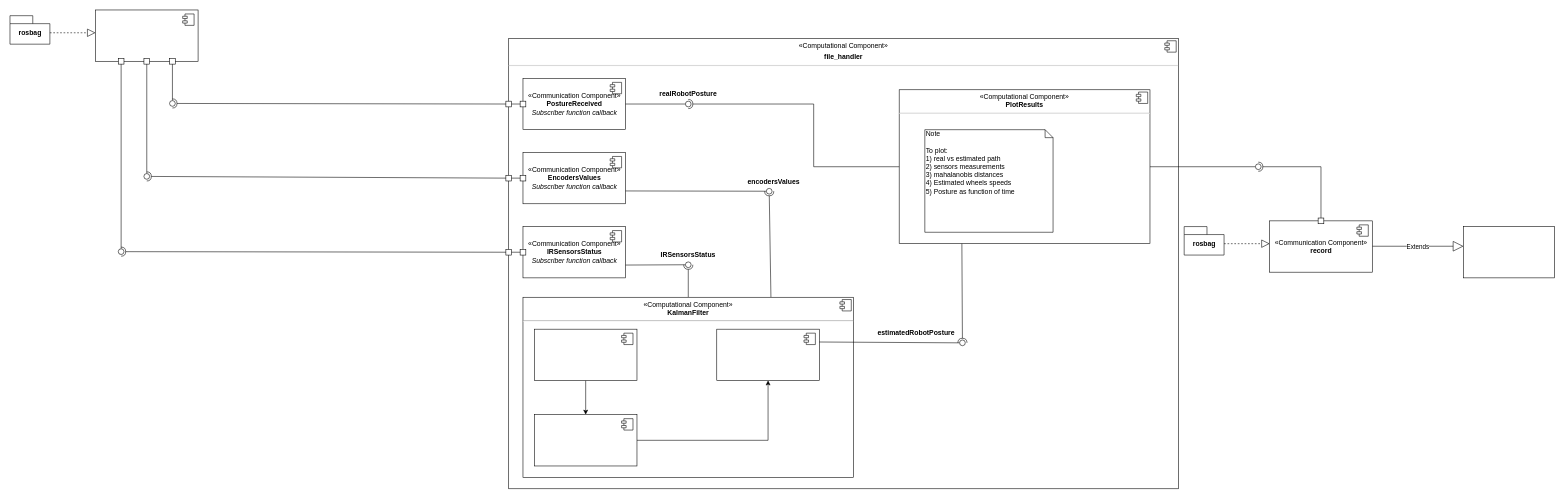
Image size: 1565x499. Some labels were removed from this diagram. Each missing label, with the centre of its shape:
"File: Filename all the data" belongs at point 1509,252.
"«Communication Component» play" belongs at point 146,35.
"«Computational Component» Estimation" belongs at point 767,354.
"«Computational Component» Prediction" belongs at point 585,440.
"«Computational Component» UpdateMatrices" belongs at point 585,354.
